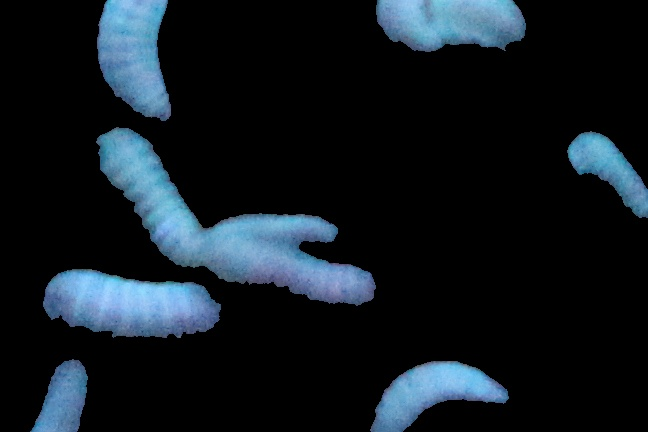larvae: (95, 132, 204, 266), (39, 270, 224, 337), (208, 236, 381, 306), (373, 355, 508, 432), (96, 1, 176, 121), (563, 125, 648, 220)
